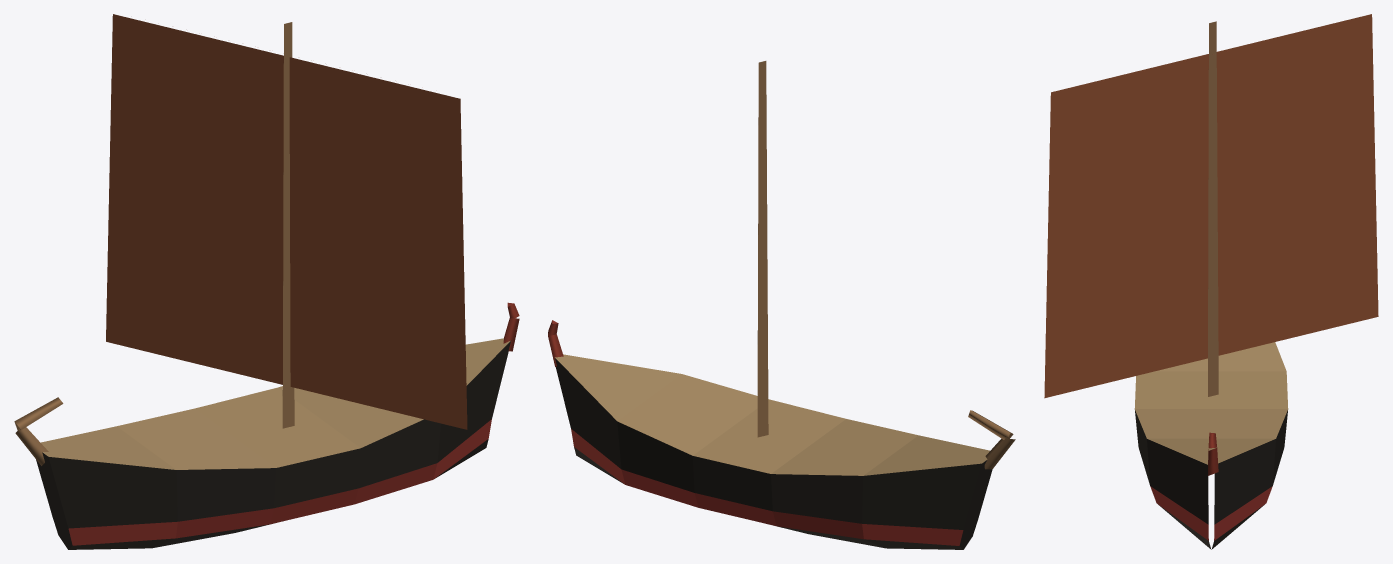
File: hull_eur_greek_medium_lod.glb
3 views of the same model, side by side, from view 1: azimuth 30°, elevation 25°; view 2: azimuth 150°, elevation 25°; view 3: azimuth 270°, elevation 25° (orthographic). The views are drawn at different scales.
Visible parts, largest first — view 1: lod; view 2: lod; view 3: lod.
Boxes of the visible parts, box(x1,y1,x2,y2) form: lod: box(14, 14, 519, 549); lod: box(548, 61, 1015, 549); lod: box(1044, 14, 1378, 549).
Bounding box in the file's own units: 13.96 × 13.18 × 8.66.
